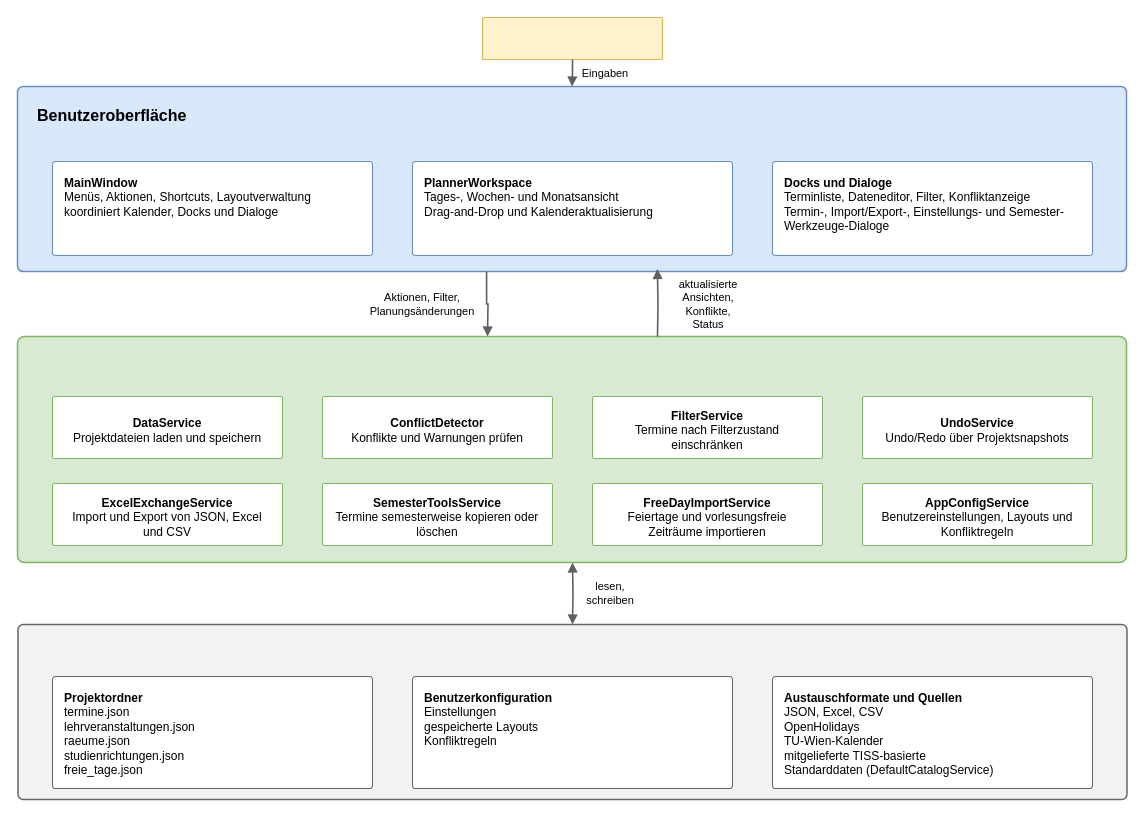
Some shapes in this 1145 by 818 pixel diagram are drawn without their labels. The box of each missing label's shape, as (x1, y1, x2, y2) in pixels:
Anwendungslogik und Services: (16, 335, 1127, 563)
Benutzer: (481, 16, 663, 60)
Daten, Konfiguration und externe Quellen: (17, 623, 1127, 800)
